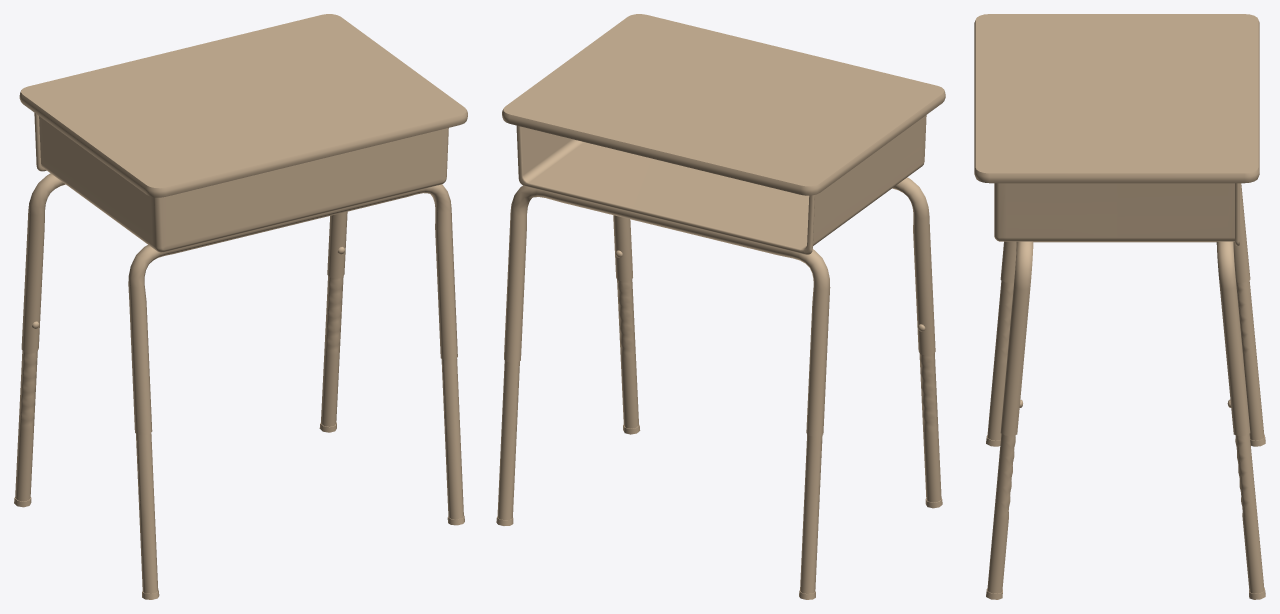
The model's file is prop-desk.glb.
The picture shows the model from 3 angles, left to right: view 1: azimuth 30°, elevation 25°; view 2: azimuth 150°, elevation 25°; view 3: azimuth 270°, elevation 25°; orthographic projection. The views are drawn at different scales.
Visible parts, largest first — view 1: SchoolDesk_01; view 2: SchoolDesk_01; view 3: SchoolDesk_01.
Boxes of the visible parts, left/top/right/bottom form: SchoolDesk_01: left=14, top=14, right=467, bottom=599; SchoolDesk_01: left=496, top=14, right=945, bottom=599; SchoolDesk_01: left=974, top=14, right=1265, bottom=599.
Bounding box in the file's own units: 0.7118 × 0.8826 × 0.546.
